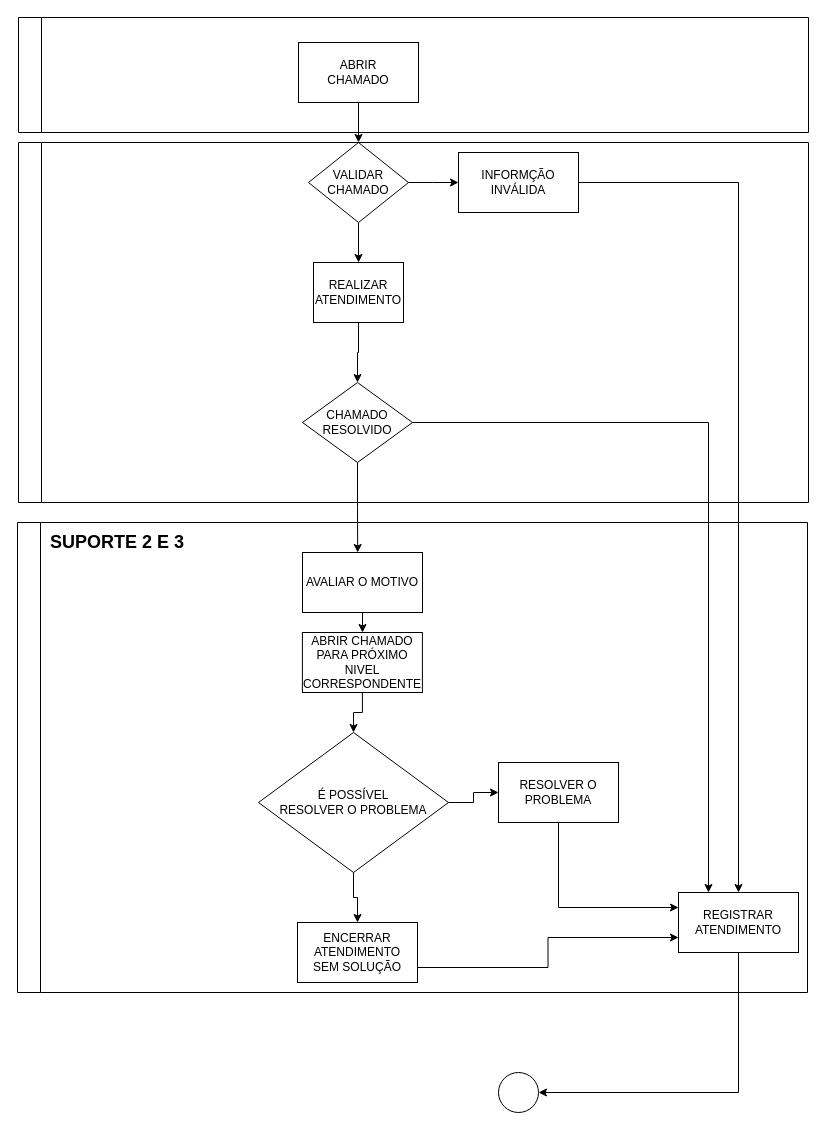
The diagram is 826 pixels wide and 1130 high, and some of its shapes have lost their labels. The shapes that lost their labels are listed below. From the top down, each one's box as (x1, y1, x2, y2) in pixels, then its label:
(18, 16, 808, 132): CLIENTE
(18, 142, 808, 502): SUPORTE 1
(498, 1072, 538, 1112): FIM
